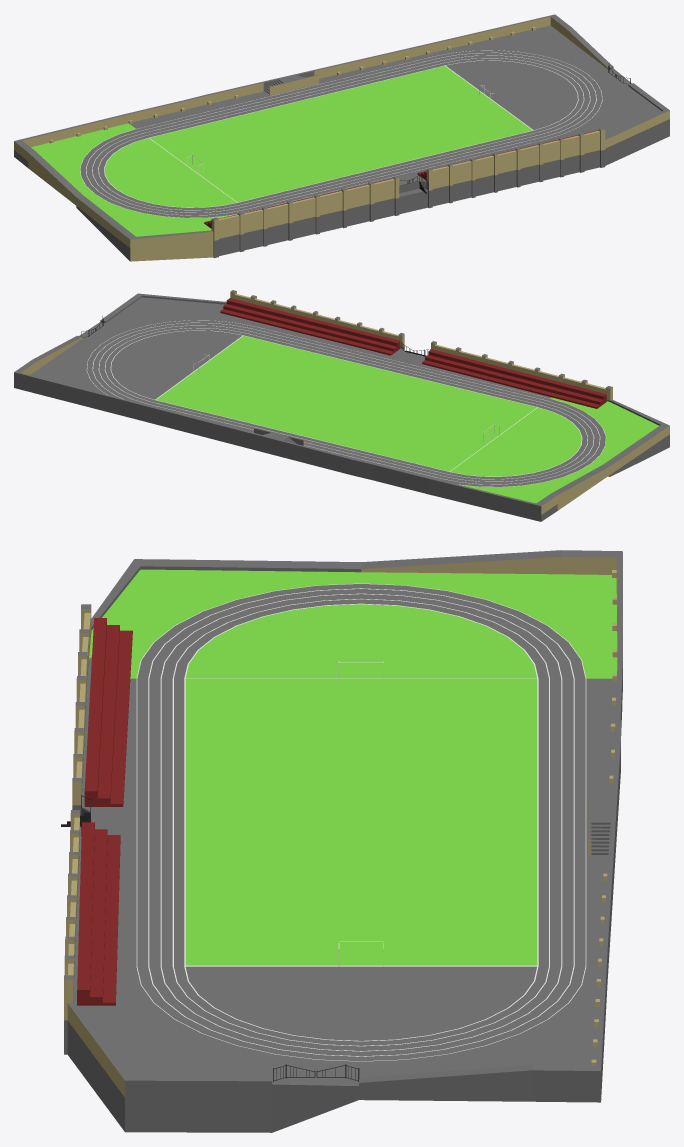
Rendered from Stadion.glb.
3 renders of one model, top to bottom at view 1: azimuth 30°, elevation 25°; view 2: azimuth 150°, elevation 25°; view 3: azimuth 270°, elevation 25°, orthographic. The views are drawn at different scales.
Parts seen in each view (by area): view 1: Стадион; view 2: Стадион, Стадион трибуна.001, Стадион трибуна; view 3: Стадион, Стадион трибуна.001, Стадион трибуна.
Boxes of the visible parts, x1,y1,x2,y2 form: Стадион: (14,14,669,261); Стадион: (14,290,669,521); Стадион трибуна.001: (422,349,606,408); Стадион трибуна: (220,298,400,355); Стадион: (64,550,622,1132); Стадион трибуна.001: (84,618,132,806); Стадион трибуна: (77,822,120,1005).
Bounding box in the file's own units: 24.19 × 1.61 × 10.92.
